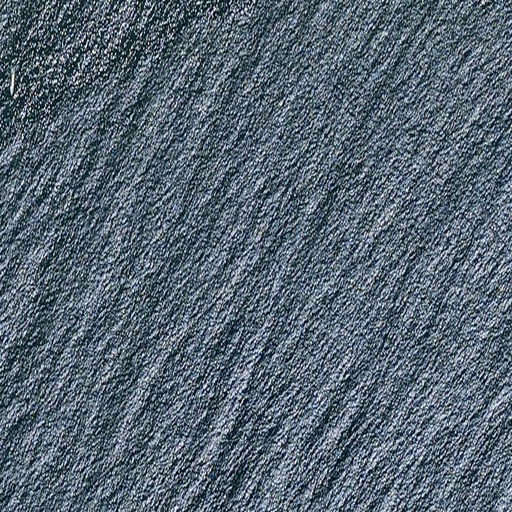ship: (8, 84, 16, 95)
